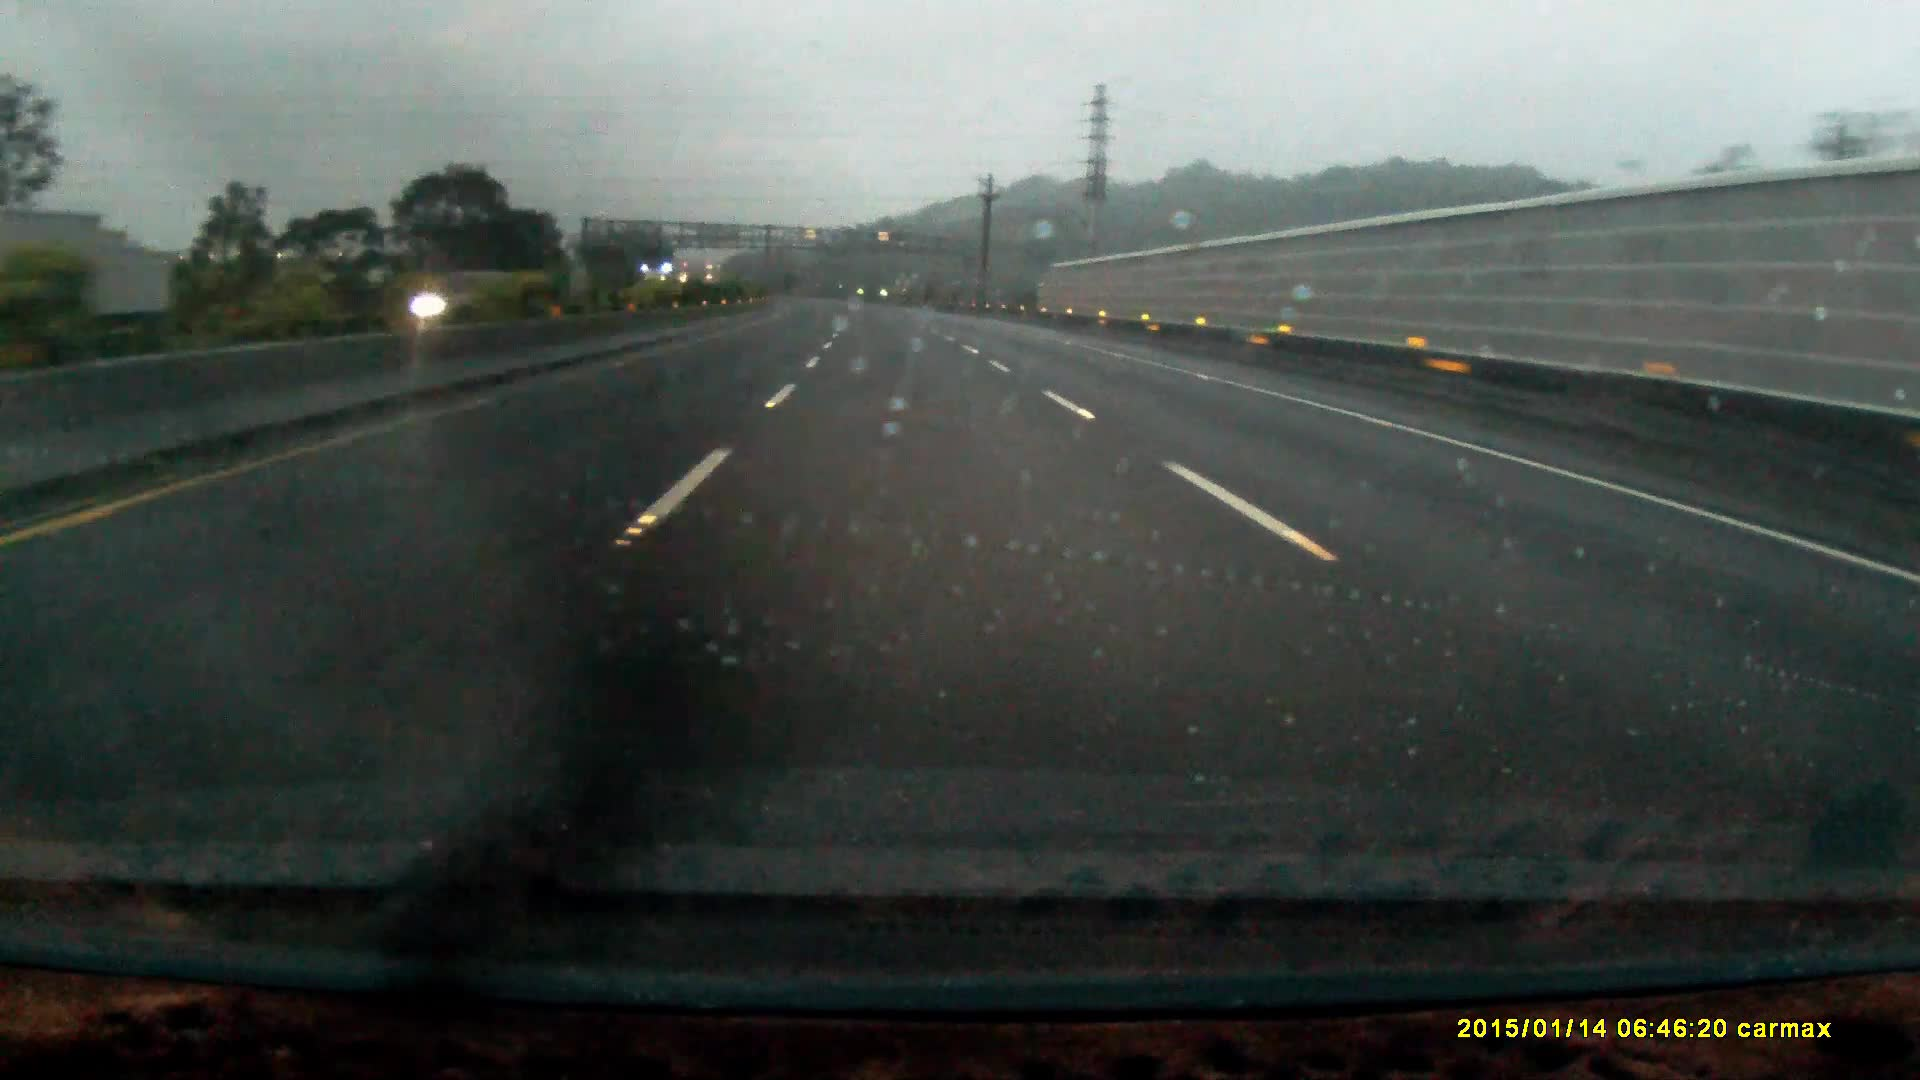vehicle: (392, 272, 484, 320), (642, 264, 687, 307)
